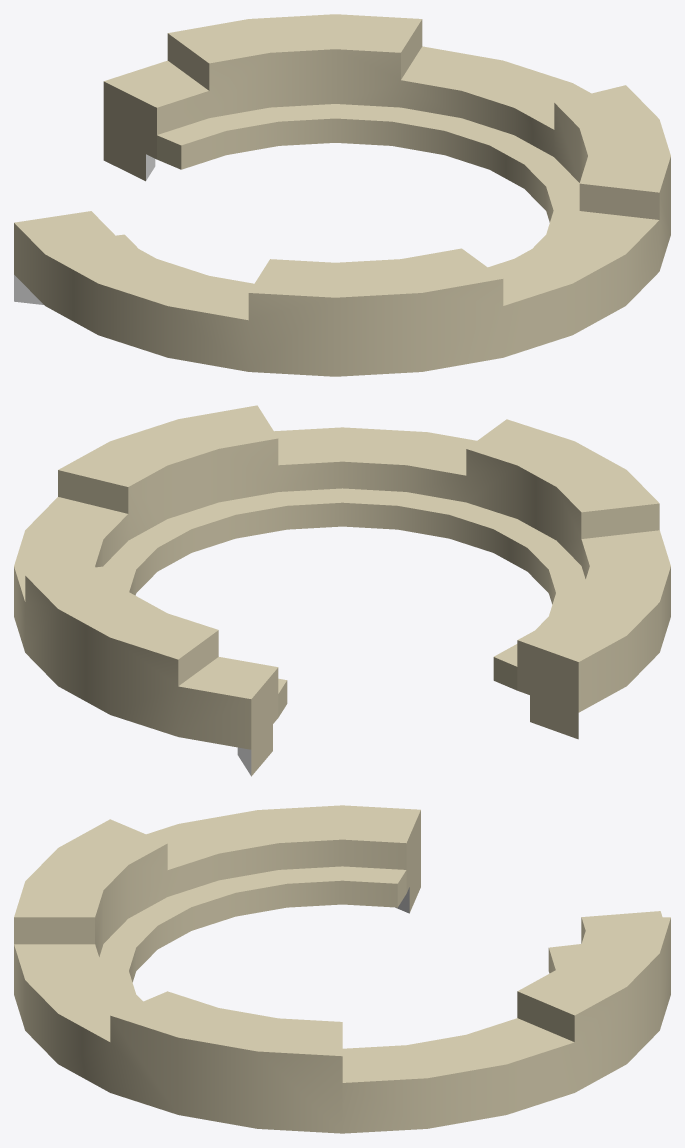
Rendered from towerTopCorner.fbx.
3 views of the same model, one above another, from view 1: azimuth 30°, elevation 25°; view 2: azimuth 150°, elevation 25°; view 3: azimuth 270°, elevation 25° (orthographic). The views are drawn at different scales.
Visible parts, largest first — view 1: towerTopCorner; view 2: towerTopCorner; view 3: towerTopCorner.
Boxes of the visible parts, left/top/right/bottom form: towerTopCorner: left=14, top=14, right=670, bottom=376; towerTopCorner: left=14, top=405, right=670, bottom=776; towerTopCorner: left=14, top=805, right=670, bottom=1133.
Bounding box in the file's own units: 10 × 1.75 × 10.
